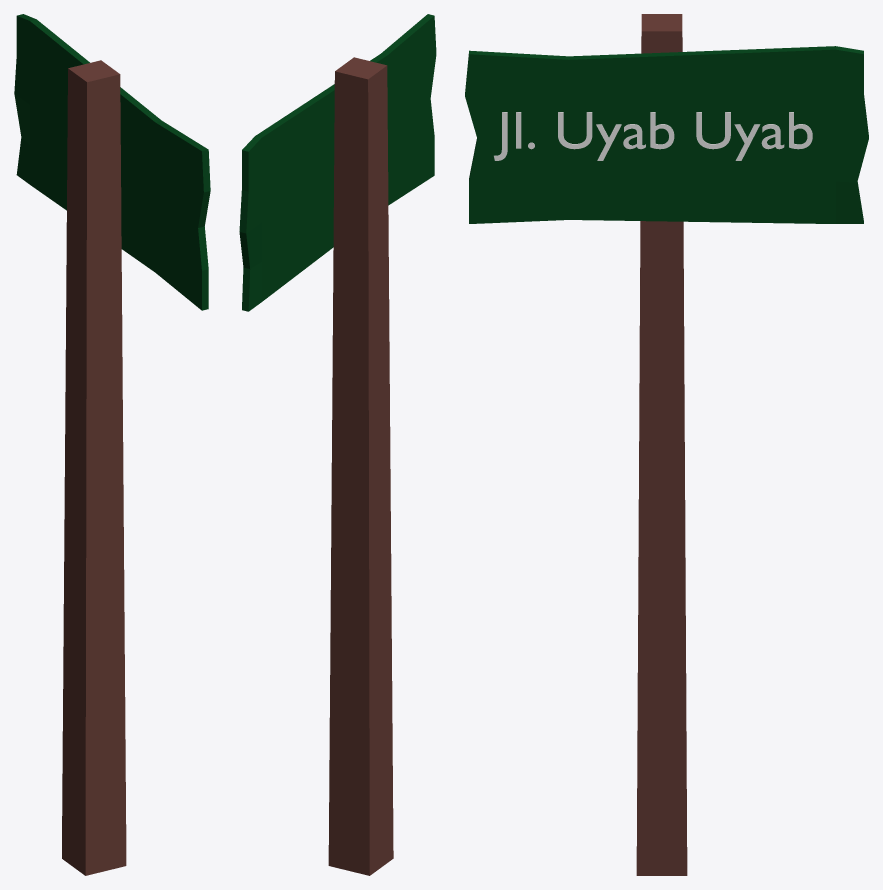
The model's file is PlangJalan-4.fbx.
The picture shows the model from 3 angles, left to right: view 1: azimuth 30°, elevation 25°; view 2: azimuth 150°, elevation 25°; view 3: azimuth 270°, elevation 25°; orthographic projection. The views are drawn at different scales.
Parts seen in each view (by area): view 1: Cube, Cube.001; view 2: Cube, Cube.001; view 3: Cube.001, Cube, Text.
Boxes of the visible parts, x1,y1,x2,y2 form: Cube: (62, 60, 126, 875); Cube.001: (14, 14, 210, 310); Cube: (328, 57, 393, 875); Cube.001: (239, 14, 436, 311); Cube.001: (465, 46, 868, 223); Cube: (636, 14, 687, 875); Text: (494, 112, 812, 160).
Size of the model in its own units: 28.73 by 471 by 205.
